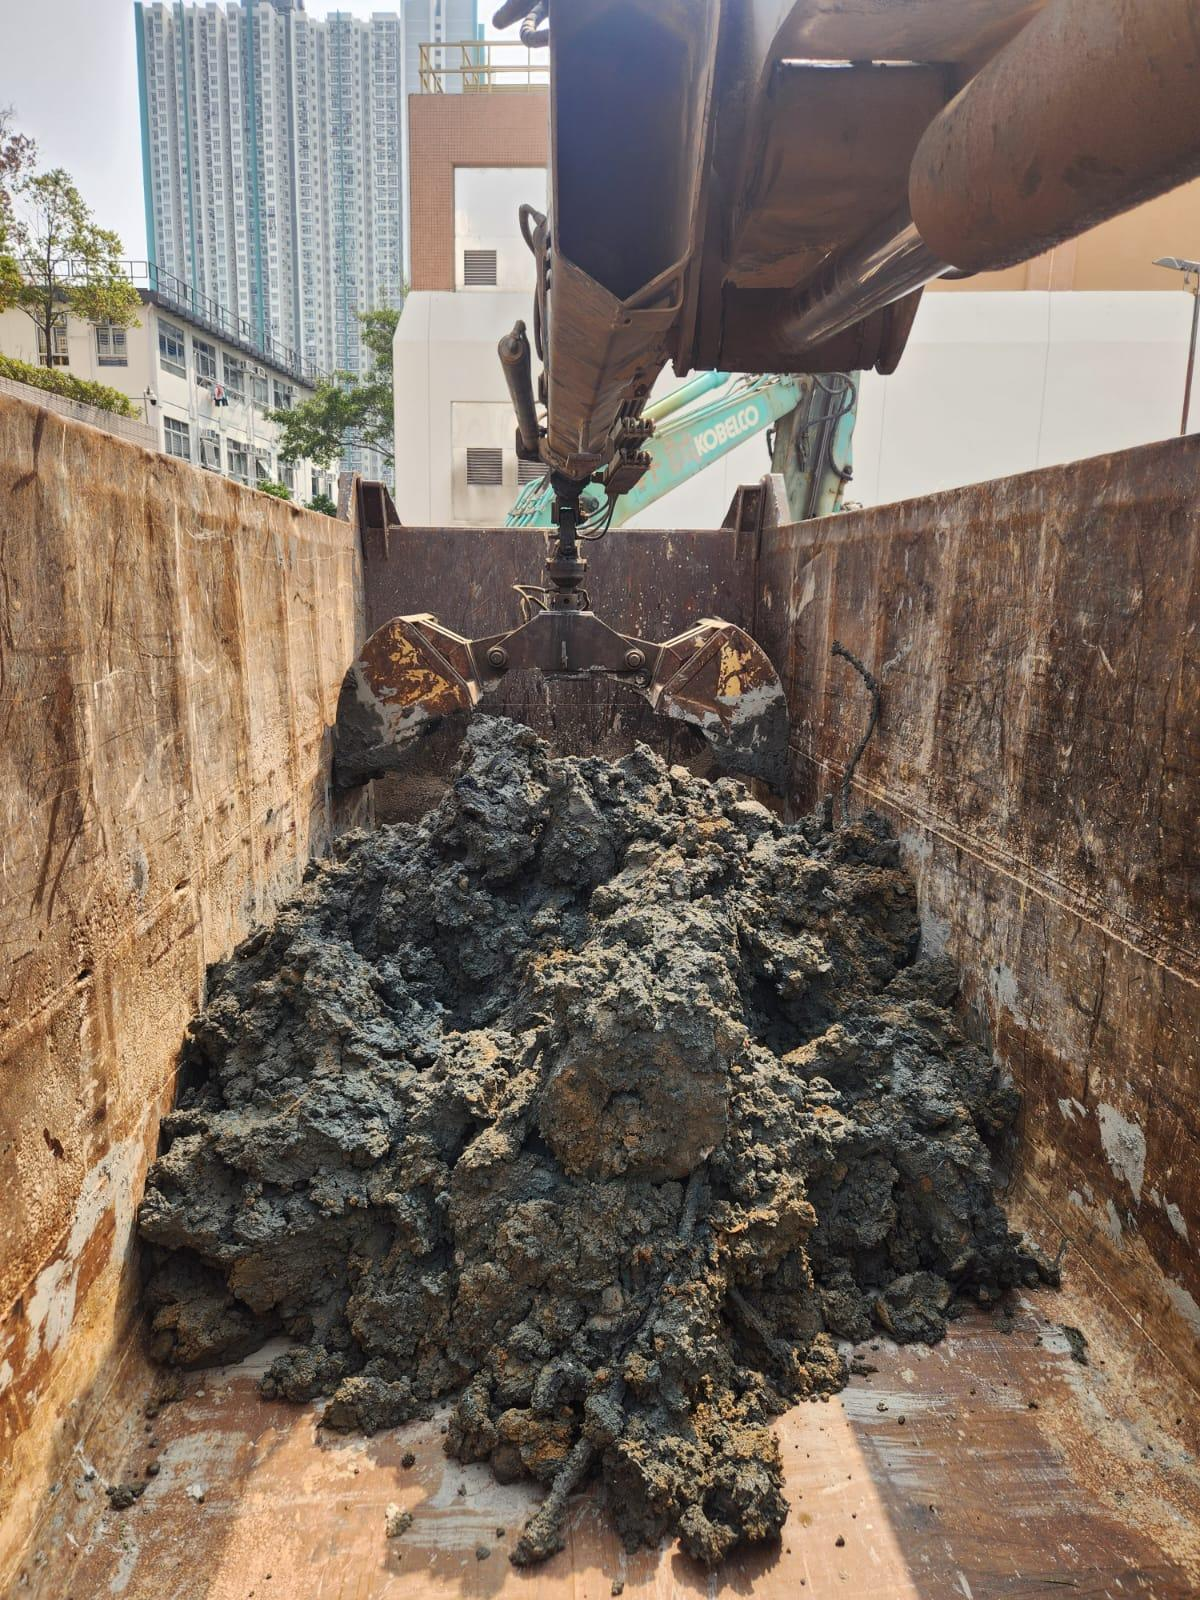stone: (134, 709, 1063, 1567)
